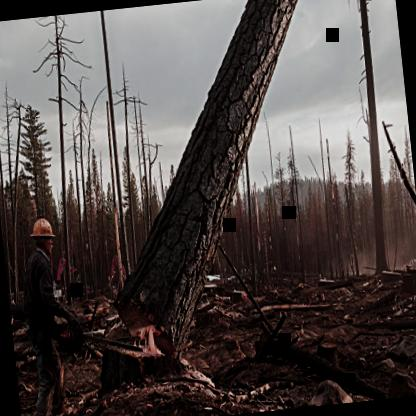helmet: (26, 211, 58, 260)
